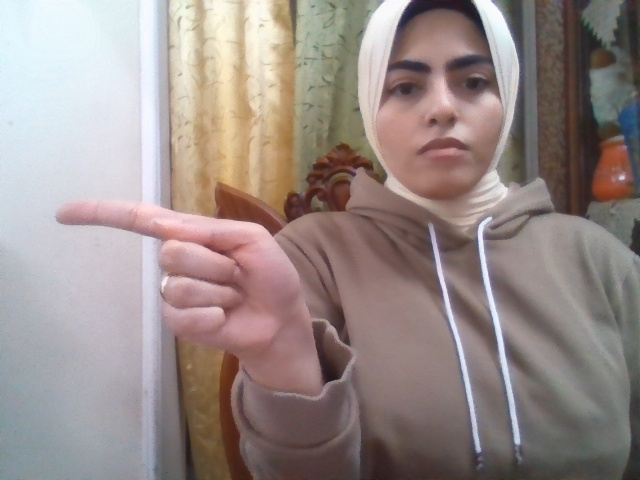G: (57, 200, 301, 361)
